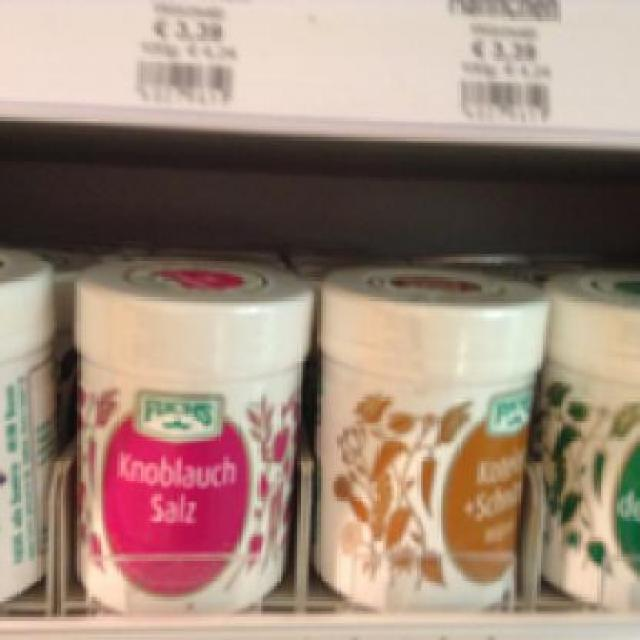Spices: (69, 255, 308, 614), (310, 262, 546, 608)
